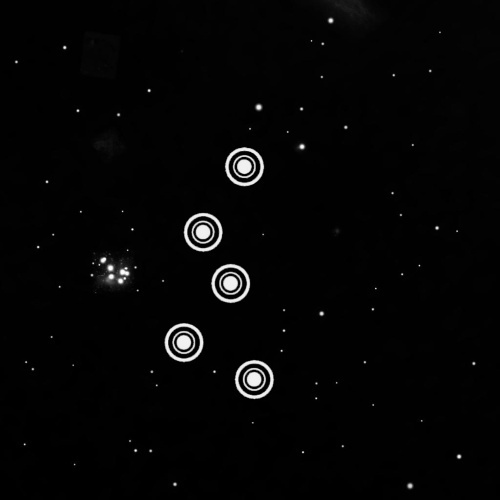cassiopeia: (149, 127, 295, 425)
